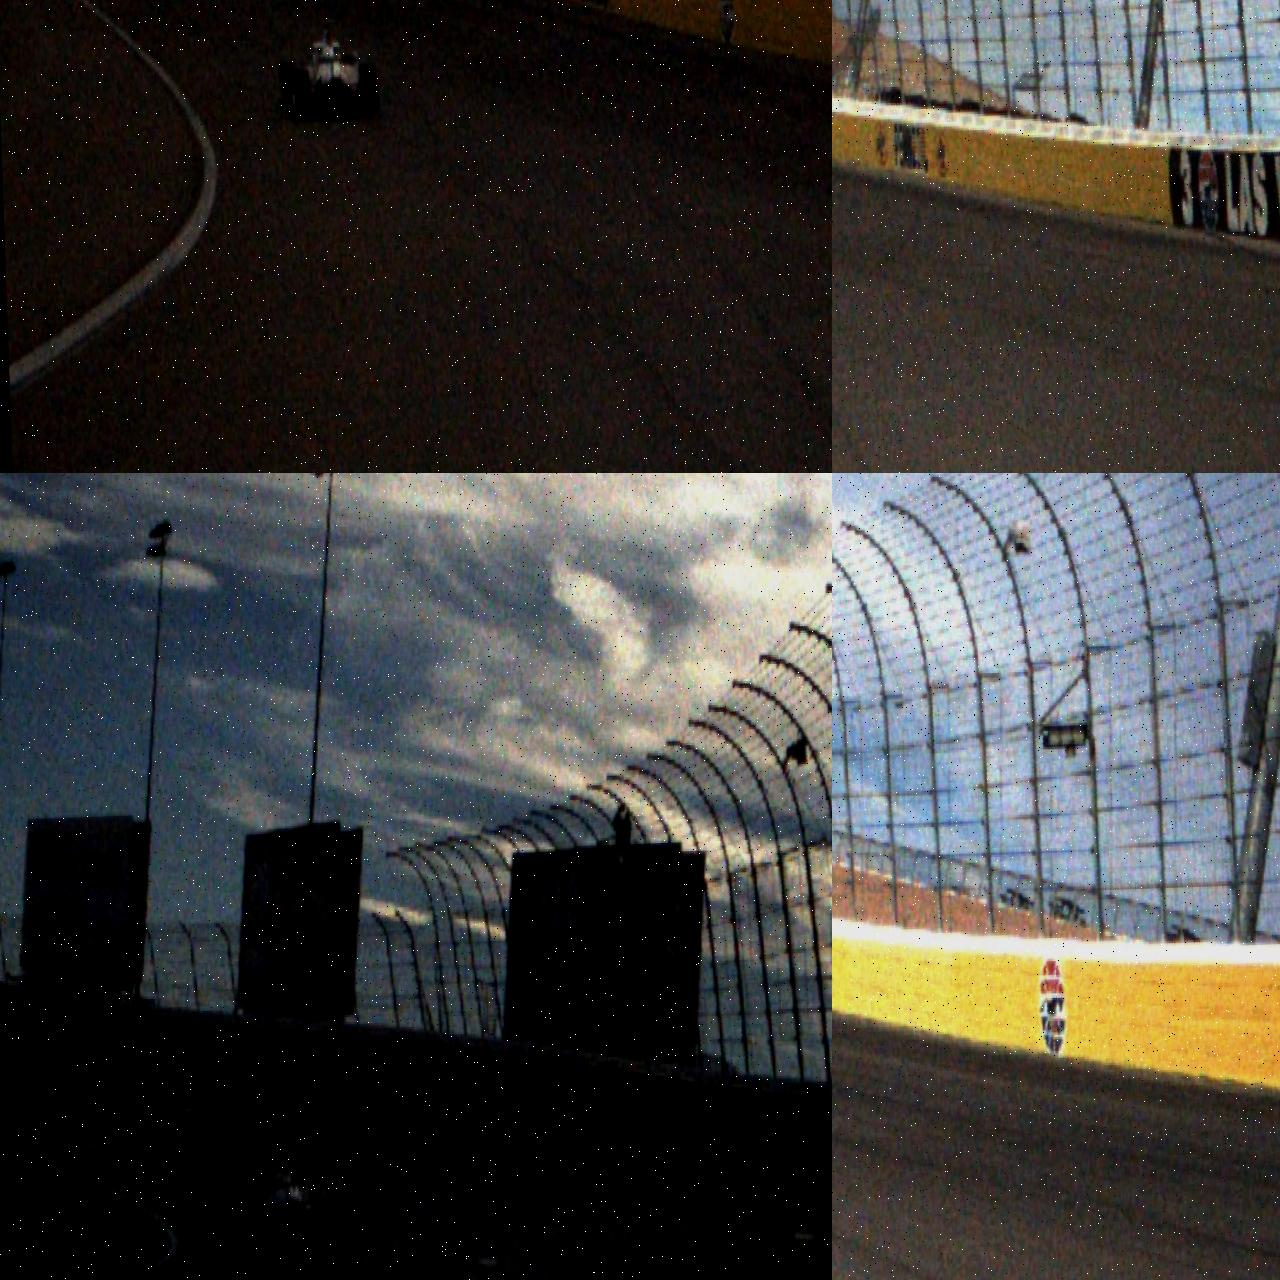AV: (277, 14, 380, 123), (248, 1155, 327, 1241)
Wheel: (359, 64, 379, 120), (292, 68, 311, 122), (278, 60, 295, 113), (250, 1191, 268, 1240), (309, 1183, 327, 1231)
